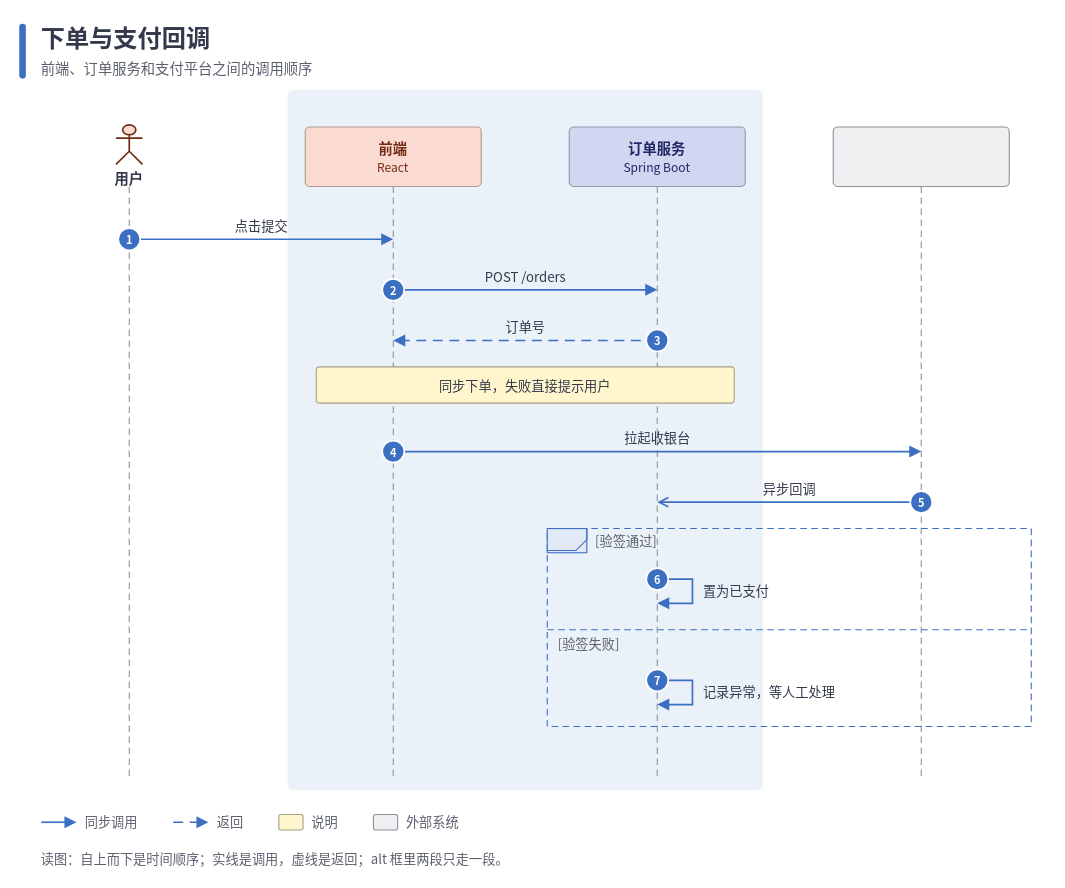
The diagram is 1065 pixels wide and 888 high, and some of its shapes have lost their labels. Each missing label, with the box of its shape:
alt: (546, 527, 587, 553)
支付平台 外部: (832, 126, 1009, 186)
电商系统: (287, 89, 762, 790)
